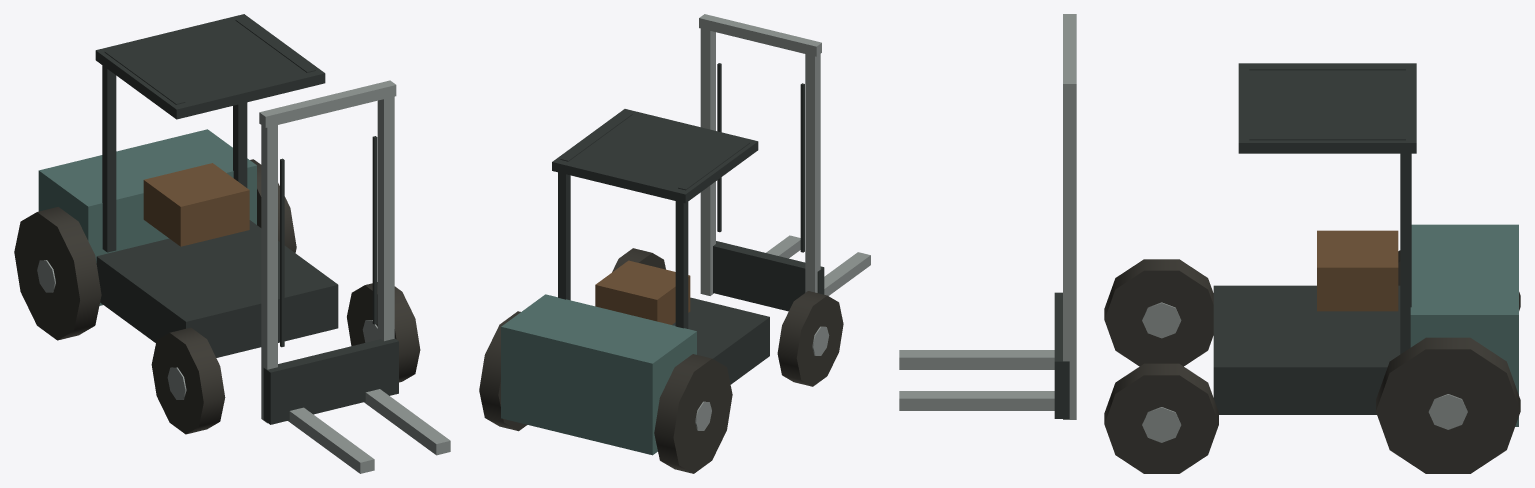
File: Forklift.glb
3 renders of one model, left to right at view 1: azimuth 30°, elevation 25°; view 2: azimuth 150°, elevation 25°; view 3: azimuth 270°, elevation 25°, orthographic. The views are drawn at different scales.
Parts seen in each view (by area): view 1: forklift-static-forklift-iron-mat, forklift-static-forklift-wheel-mat, forklift-static-forklift-steel-mat, forklift-static-forklift-paint-mat, forklift-static-forklift-timber-mat; view 2: forklift-static-forklift-iron-mat, forklift-static-forklift-paint-mat, forklift-static-forklift-wheel-mat, forklift-static-forklift-steel-mat, forklift-static-forklift-timber-mat; view 3: forklift-static-forklift-iron-mat, forklift-static-forklift-wheel-mat, forklift-static-forklift-steel-mat, forklift-static-forklift-paint-mat, forklift-static-forklift-timber-mat.
Boxes of the visible parts, left/top/right/bottom form: forklift-static-forklift-iron-mat: left=95, top=14, right=398, bottom=424; forklift-static-forklift-wheel-mat: left=14, top=159, right=420, bottom=434; forklift-static-forklift-steel-mat: left=37, top=80, right=450, bottom=473; forklift-static-forklift-paint-mat: left=38, top=129, right=256, bottom=305; forklift-static-forklift-timber-mat: left=143, top=163, right=249, bottom=246; forklift-static-forklift-iron-mat: left=552, top=63, right=824, bottom=384; forklift-static-forklift-paint-mat: left=501, top=294, right=696, bottom=455; forklift-static-forklift-wheel-mat: left=479, top=248, right=843, bottom=473; forklift-static-forklift-steel-mat: left=695, top=14, right=870, bottom=430; forklift-static-forklift-timber-mat: left=595, top=260, right=690, bottom=324; forklift-static-forklift-iron-mat: left=1054, top=63, right=1416, bottom=418; forklift-static-forklift-wheel-mat: left=1104, top=250, right=1520, bottom=473; forklift-static-forklift-steel-mat: left=899, top=14, right=1467, bottom=442; forklift-static-forklift-paint-mat: left=1410, top=224, right=1518, bottom=426; forklift-static-forklift-timber-mat: left=1317, top=230, right=1398, bottom=311.
Bounding box in the file's own units: 1.84 × 2.68 × 4.12.
